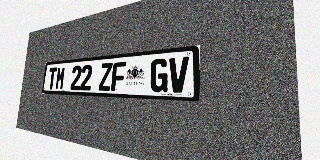2: (80, 64, 93, 90), (70, 65, 82, 90)
F: (111, 61, 126, 91)
G: (150, 58, 169, 92)
M: (55, 66, 66, 90)
T: (47, 67, 57, 89)
V: (168, 56, 189, 93)
Z: (98, 63, 113, 91)
